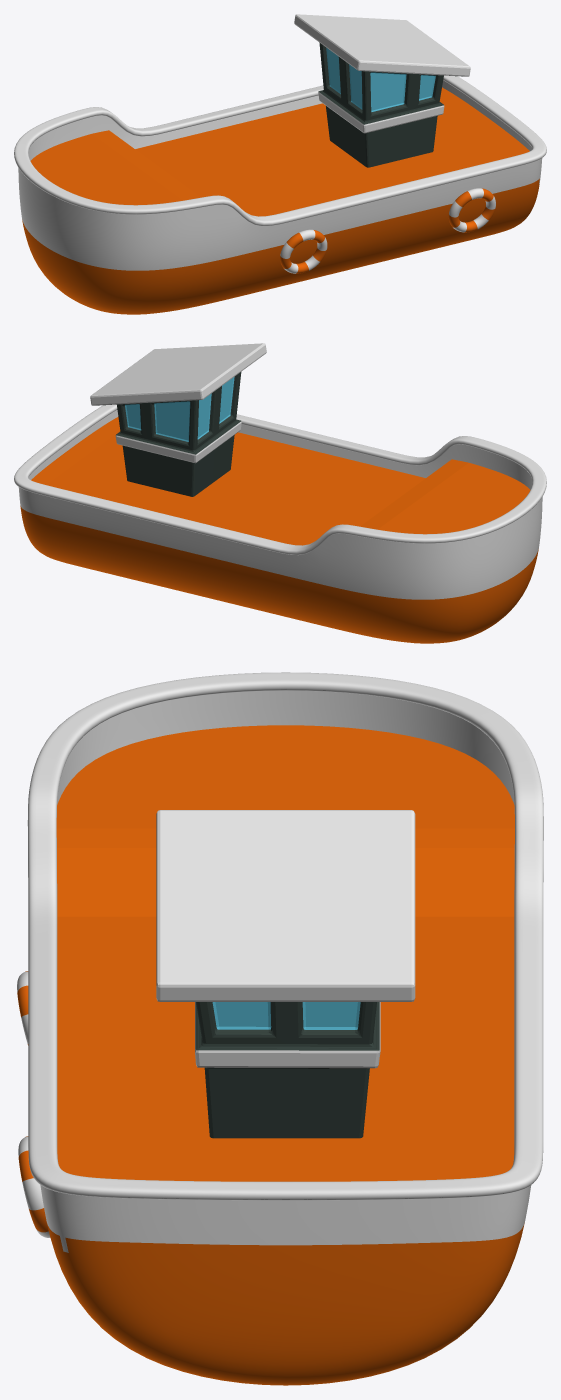
File: barquinho.fbx
3 renders of one model, top to bottom at view 1: azimuth 30°, elevation 25°; view 2: azimuth 150°, elevation 25°; view 3: azimuth 270°, elevation 25°, orthographic. The views are drawn at different scales.
Visible parts, largest first — view 1: Cube, Cube.001, Plane, Torus.003, Torus.004; view 2: Cube, Cube.001, Plane; view 3: Cube, Cube.001, Plane, Torus.003.
Boxes of the visible parts, x1,y1,x2,y2 form: Cube: (14,75,546,314); Cube.001: (30,87,529,216); Plane: (294,14,470,167); Torus.003: (448,188,495,232); Torus.004: (280,229,327,273); Cube: (14,404,546,643); Cube.001: (31,417,530,545); Plane: (90,343,266,496); Cube: (27,672,543,1385); Cube.001: (56,725,514,1181); Plane: (156,810,415,1138); Torus.003: (18,1136,50,1237).
Size of the model in its own units: 612 by 273 by 301.
